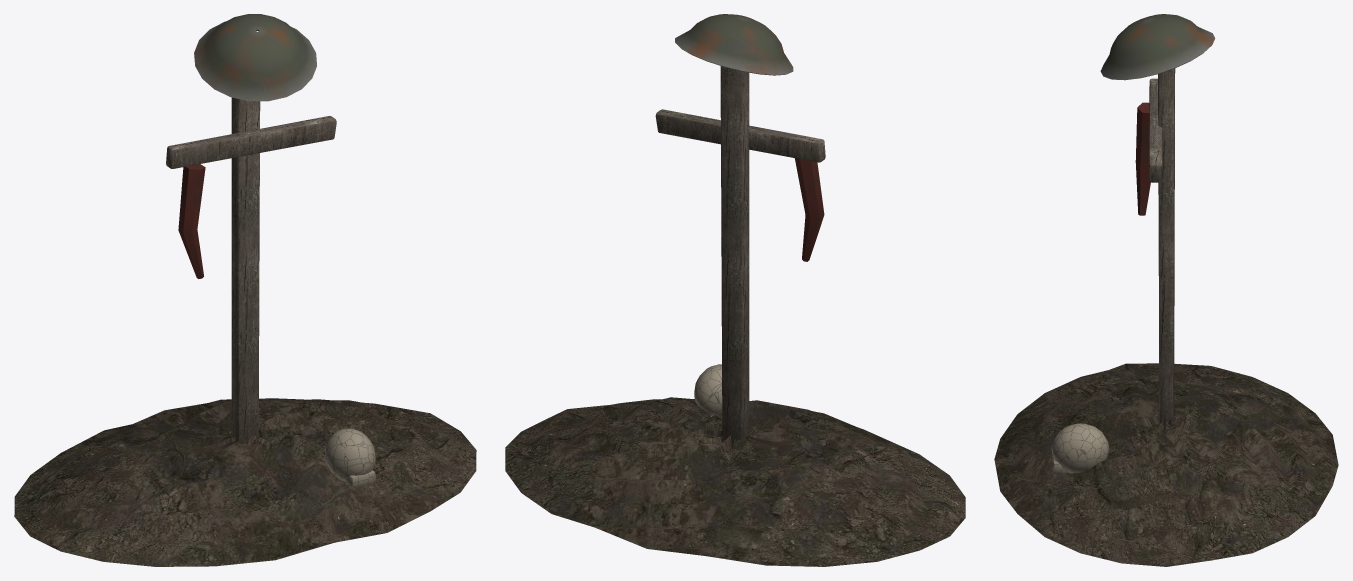
File: grave_cross.glb
3 views of the same model, side by side, from view 1: azimuth 30°, elevation 25°; view 2: azimuth 150°, elevation 25°; view 3: azimuth 270°, elevation 25° (orthographic). The views are drawn at different scales.
Parts seen in each view (by area): view 1: grave_cross_Earth, grave_cross_Wood, grave_cross_Helmet, grave_cross_Bone, grave_cross_Cloth; view 2: grave_cross_Earth, grave_cross_Wood, grave_cross_Helmet, grave_cross_Cloth, grave_cross_Bone; view 3: grave_cross_Earth, grave_cross_Wood, grave_cross_Helmet, grave_cross_Bone, grave_cross_Cloth.
Boxes of the visible parts, box(x1,y1,x2,y2) form: grave_cross_Earth: box(14, 398, 476, 566); grave_cross_Wood: box(166, 97, 336, 444); grave_cross_Helmet: box(194, 14, 316, 101); grave_cross_Bone: box(325, 428, 375, 486); grave_cross_Cloth: box(178, 164, 205, 278); grave_cross_Earth: box(505, 397, 965, 566); grave_cross_Wood: box(655, 66, 825, 449); grave_cross_Helmet: box(675, 14, 793, 75); grave_cross_Cloth: box(794, 158, 824, 261); grave_cross_Bone: box(694, 364, 722, 412); grave_cross_Earth: box(994, 363, 1338, 566); grave_cross_Wood: box(1148, 68, 1175, 432); grave_cross_Helmet: box(1100, 14, 1215, 80); grave_cross_Bone: box(1051, 423, 1109, 473); grave_cross_Cloth: box(1135, 102, 1150, 215).
Bounding box in the file's own units: 1.57 × 1.62 × 1.12.
5 materials, 5 textured.
